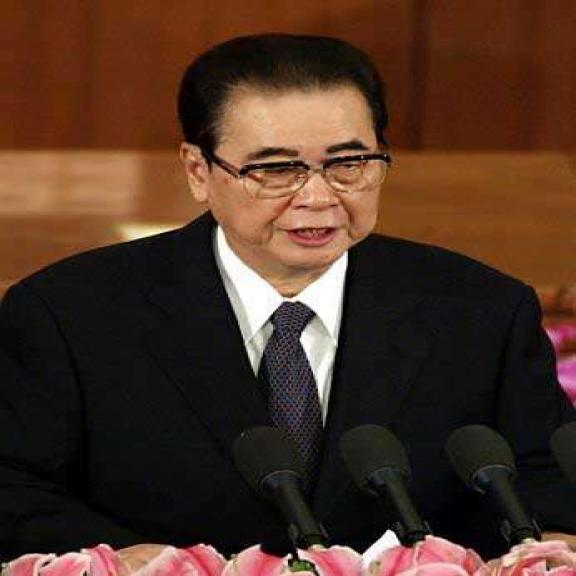face: (190, 83, 388, 270)
